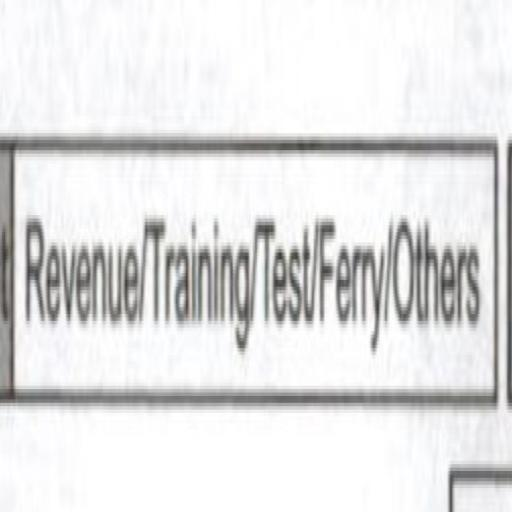check: (20, 137, 137, 419)
